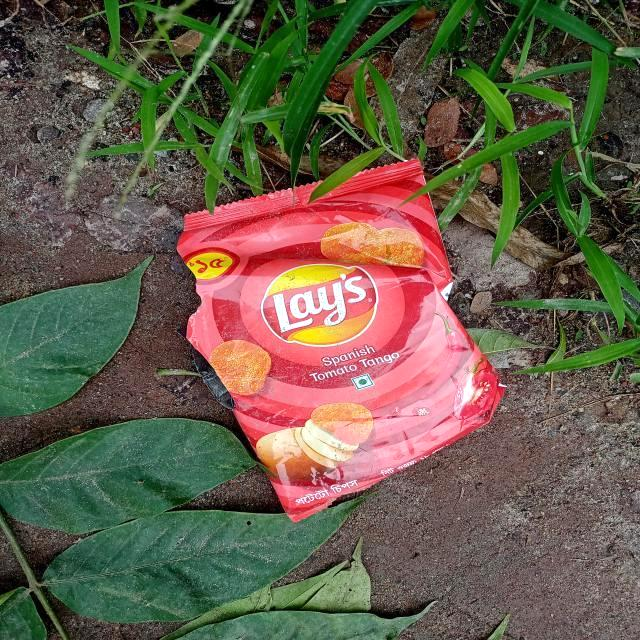packet: (192, 176, 494, 496)
